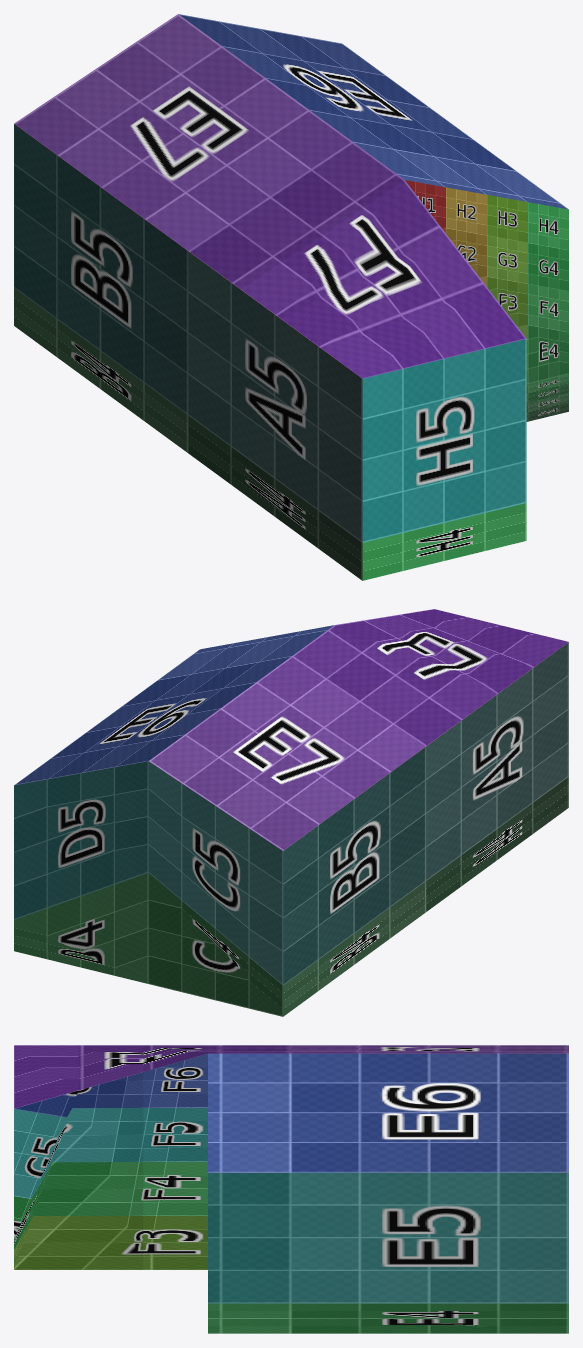
The model's file is house_f.gltf.
3 views of the same model, one above another, from view 1: azimuth 30°, elevation 25°; view 2: azimuth 150°, elevation 25°; view 3: azimuth 270°, elevation 25° (orthographic). The views are drawn at different scales.
Visible parts, largest first — view 1: NeighborHouseD-col; view 2: NeighborHouseD-col; view 3: NeighborHouseD-col.
Boxes of the visible parts, box(x1,y1,x2,y2) form: NeighborHouseD-col: box(14, 14, 568, 580); NeighborHouseD-col: box(14, 609, 568, 1016); NeighborHouseD-col: box(14, 1045, 568, 1333).
Size of the model in its own units: 23.38 by 18.5 by 42.99.
1 material, 1 textured.
